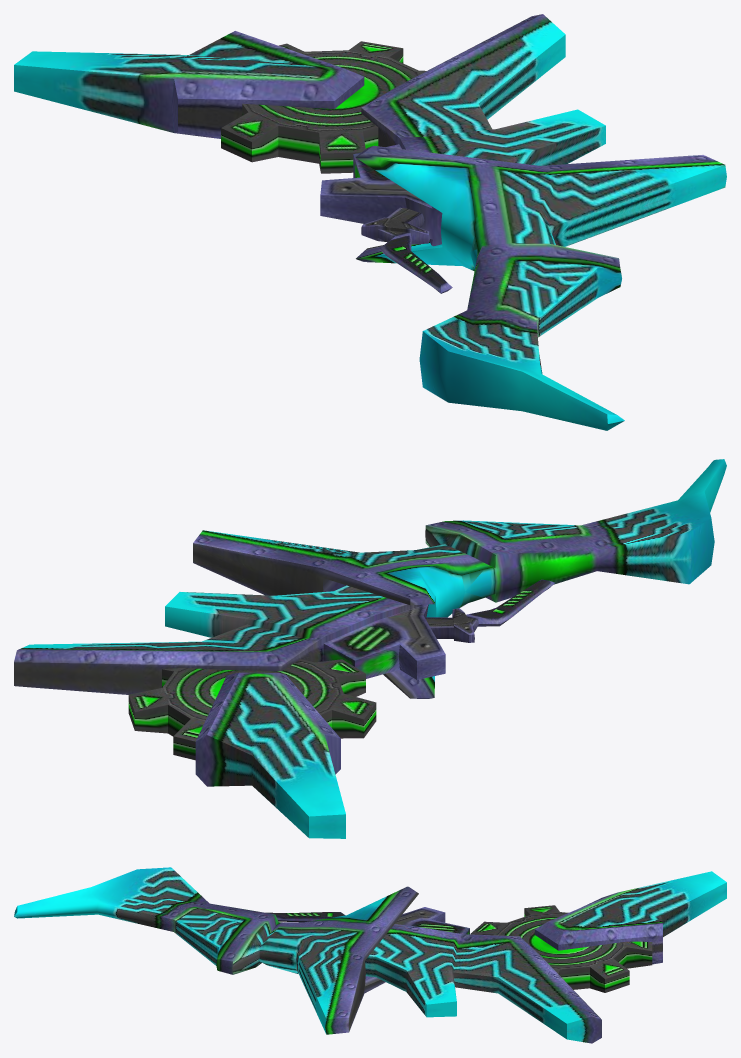
The model's file is bow_l__ightning_lightning.glb.
3 views of the same model, one above another, from view 1: azimuth 30°, elevation 25°; view 2: azimuth 150°, elevation 25°; view 3: azimuth 270°, elevation 25° (orthographic). The views are drawn at different scales.
Bounding box in the file's own units: 0.927 × 0.2161 × 1.85.
1 material, 1 textured.
